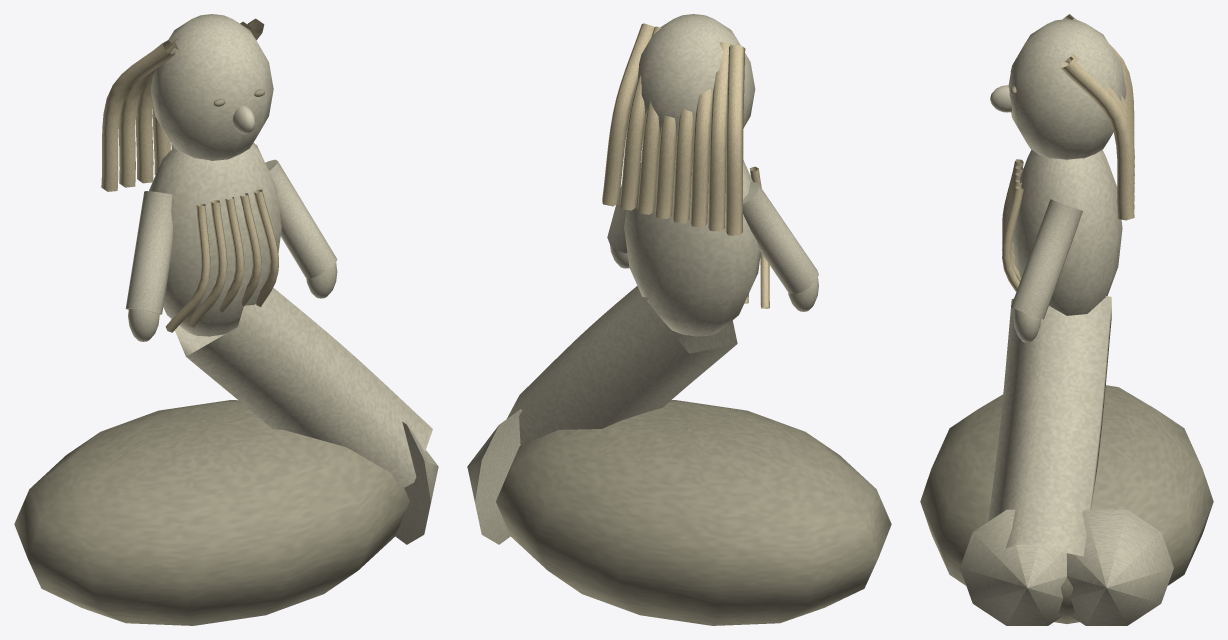
File: mermaid.glb
3 renders of one model, left to right at view 1: azimuth 30°, elevation 25°; view 2: azimuth 150°, elevation 25°; view 3: azimuth 270°, elevation 25°, orthographic. The views are drawn at different scales.
Visible parts, largest first — view 1: static_ornament; view 2: static_ornament; view 3: static_ornament.
Part boxes in pixels (box(x1,y1,x2,y2)): static_ornament: box(14, 14, 438, 625); static_ornament: box(467, 14, 891, 625); static_ornament: box(920, 14, 1213, 625).
Bounding box in the file's own units: 1.1 × 1.57 × 0.74.
Materials: 1 (1 with a texture image).
